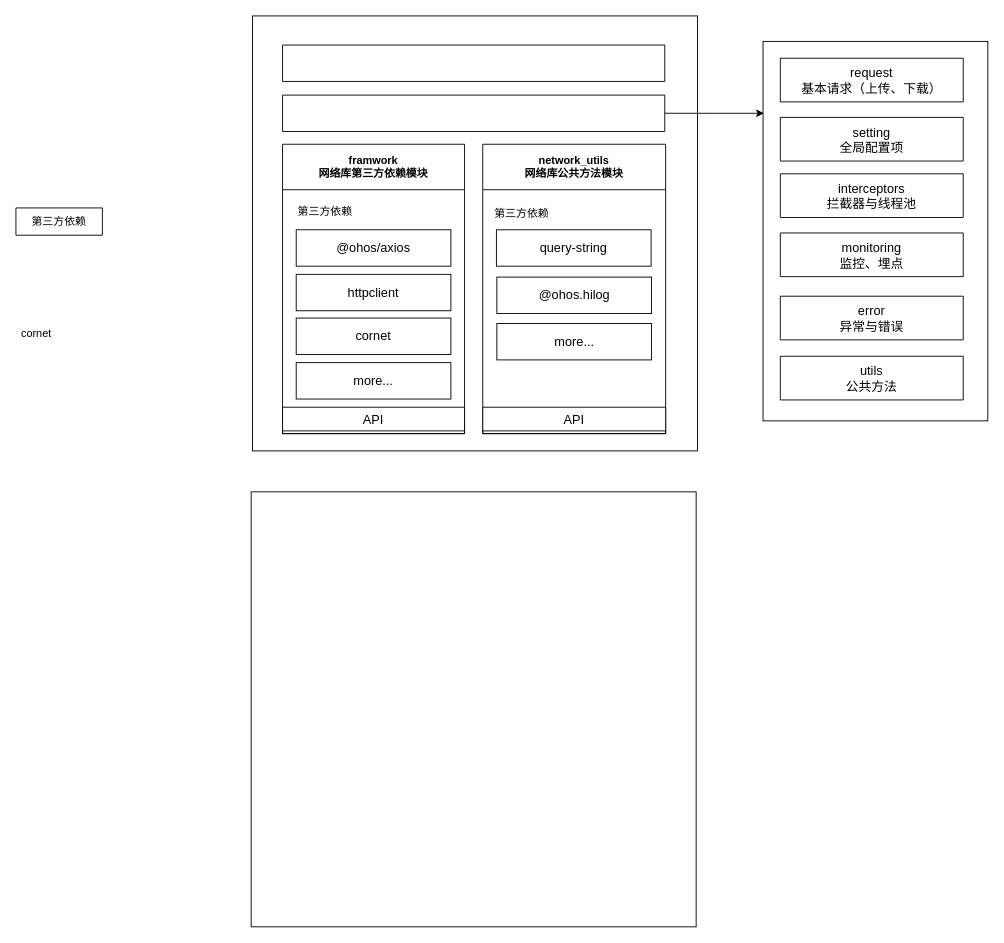
Some shapes in this 1004 by 943 pixel diagram are drawn without their labels. Each missing label, with the centre of its shape:
"entry Demo与示例" goes at (473,62).
"network 网络库核心模块" goes at (473,112).
"优先级策略" goes at (473,709).
